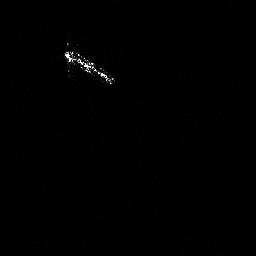ship: (60, 47, 118, 87)
